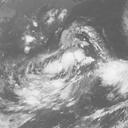cyclone: (39, 42, 95, 85)
